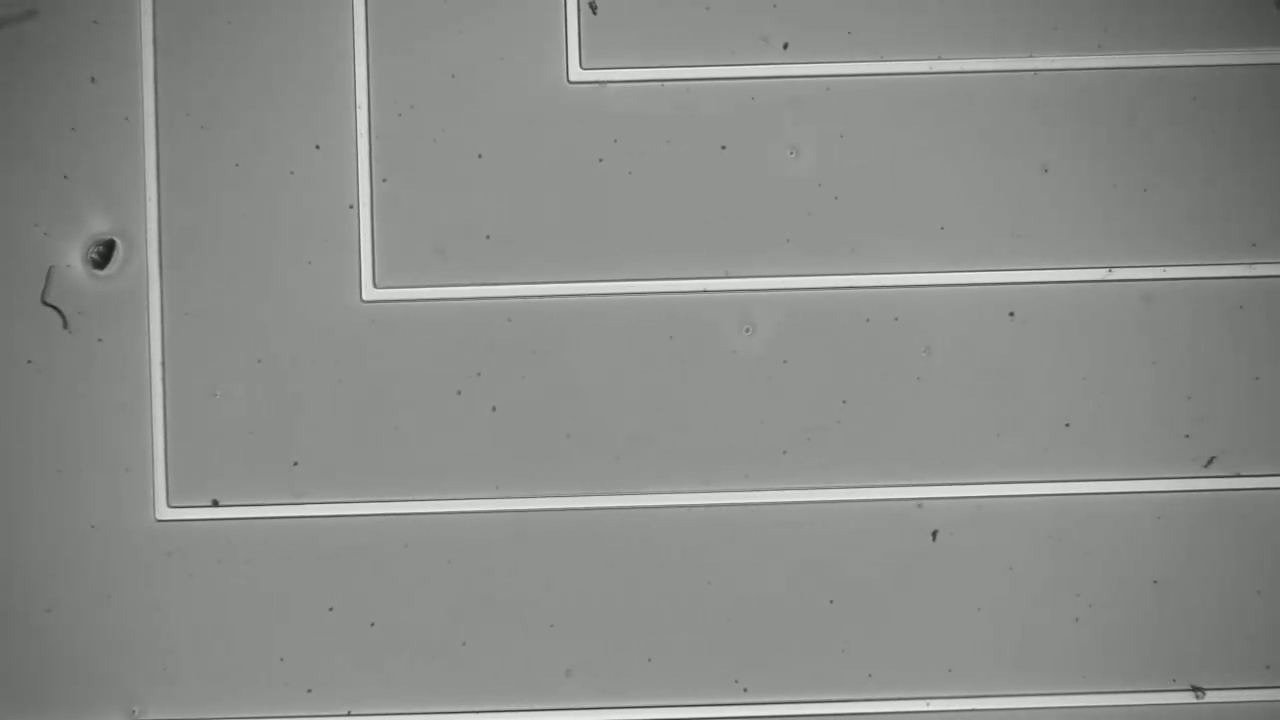stains_enbedded: (1187, 676, 1215, 711)
